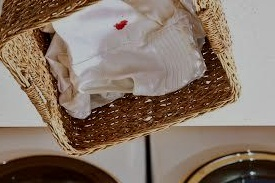blood: (114, 18, 129, 33)
